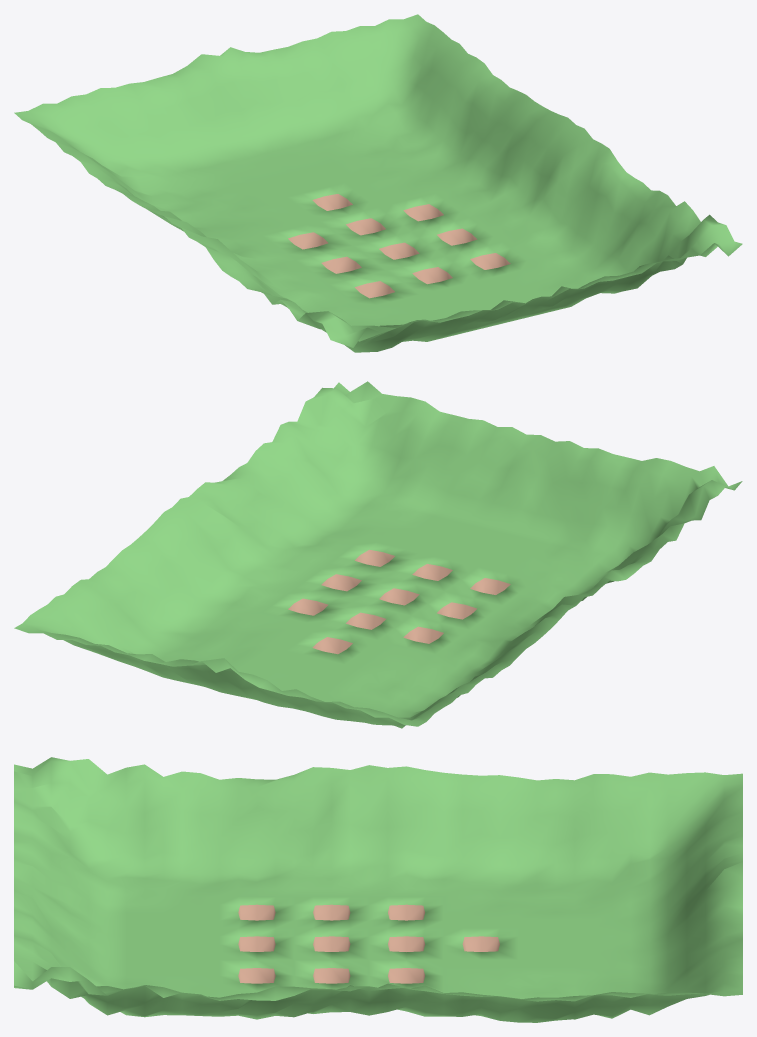
Rendered from map.fbx.
3 views of the same model, one above another, from view 1: azimuth 30°, elevation 25°; view 2: azimuth 150°, elevation 25°; view 3: azimuth 270°, elevation 25° (orthographic). The views are drawn at different scales.
Parts seen in each view (by area): view 1: Cube; view 2: Cube; view 3: Cube.
Boxes of the visible parts, left/top/right/bottom form: Cube: left=14, top=14, right=742, bottom=352; Cube: left=14, top=381, right=742, bottom=728; Cube: left=14, top=757, right=742, bottom=1022.
Bounding box in the file's own units: 1400 × 286 × 1950.
